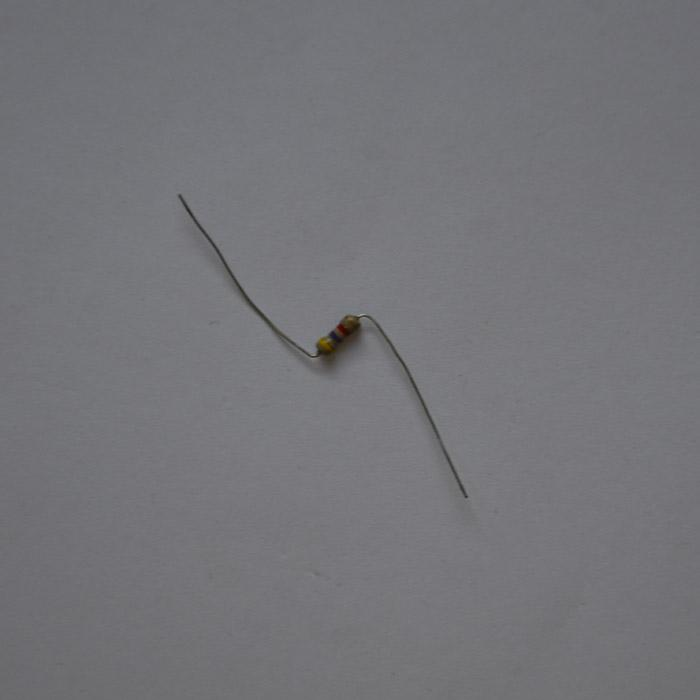resistor: (315, 313, 360, 355)
